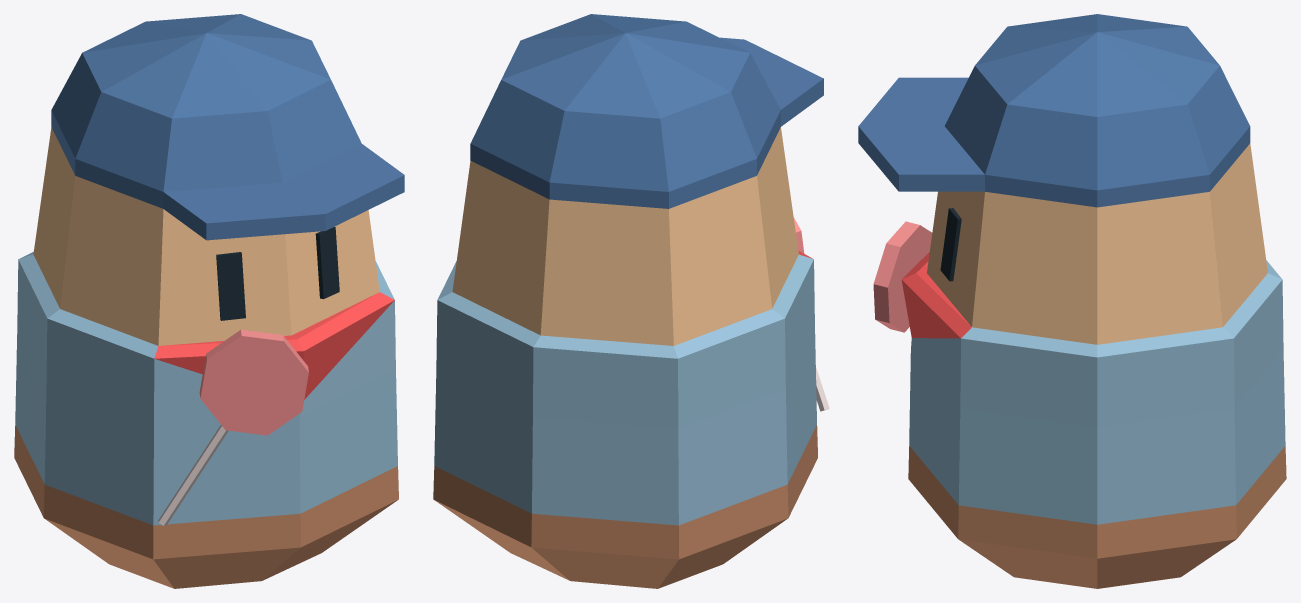
The model's file is Child.fbx.
The picture shows the model from 3 angles, left to right: view 1: azimuth 30°, elevation 25°; view 2: azimuth 150°, elevation 25°; view 3: azimuth 270°, elevation 25°; orthographic projection.
Parts seen in each view (by area): view 1: Child; view 2: Child; view 3: Child.
Boxes of the visible parts, left/top/right/bottom form: Child: left=14, top=14, right=404, bottom=588; Child: left=433, top=14, right=829, bottom=588; Child: left=858, top=14, right=1286, bottom=588.
Bounding box in the file's own units: 19.95 × 22.65 × 31.1.
